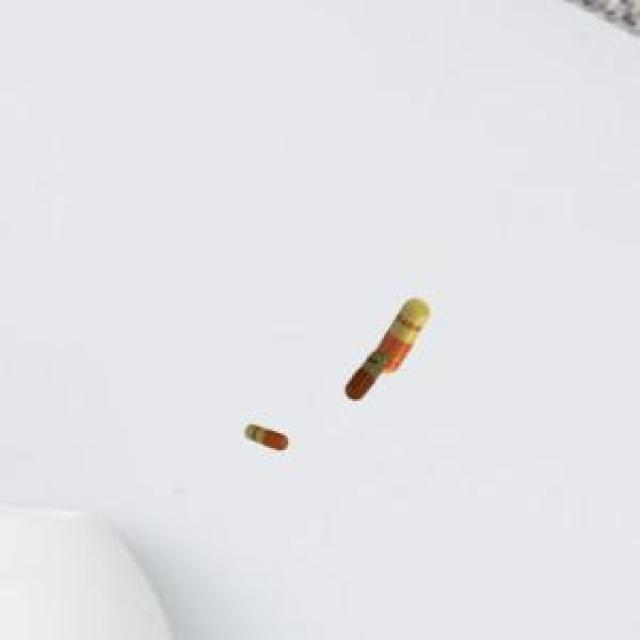Alaxan: (340, 290, 434, 408), (242, 415, 290, 458)
